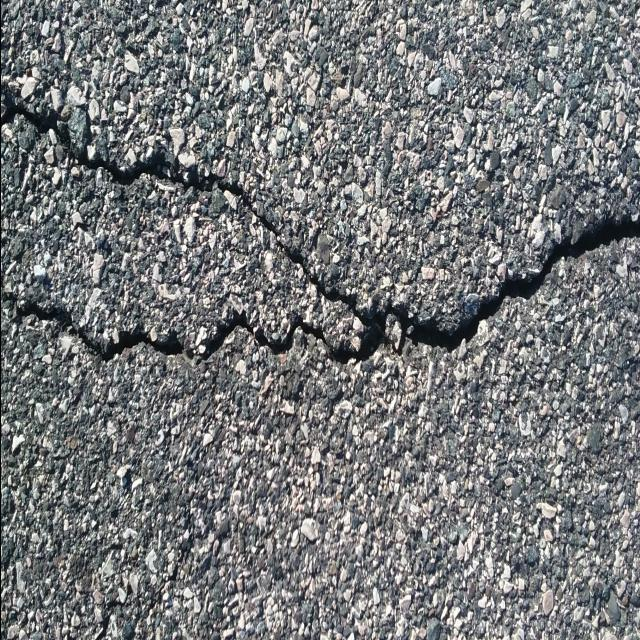Crack: (0, 81, 640, 365)
